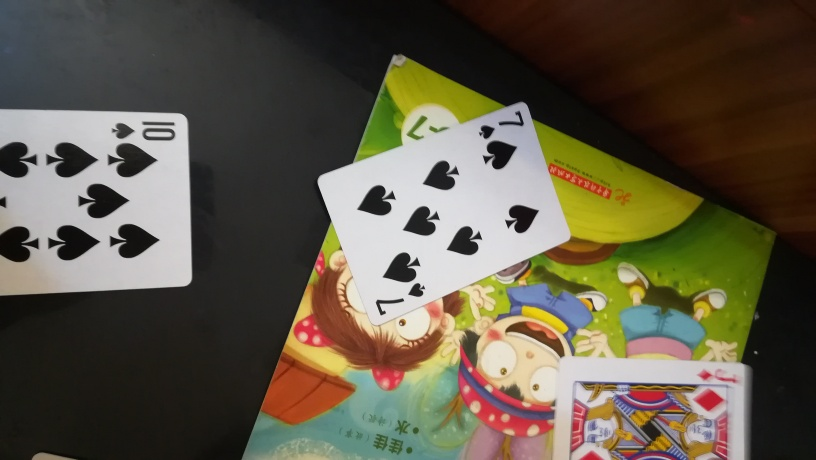fk j: (554, 356, 749, 460)
ht 10: (1, 107, 200, 298)
ht 7: (316, 100, 575, 329)
